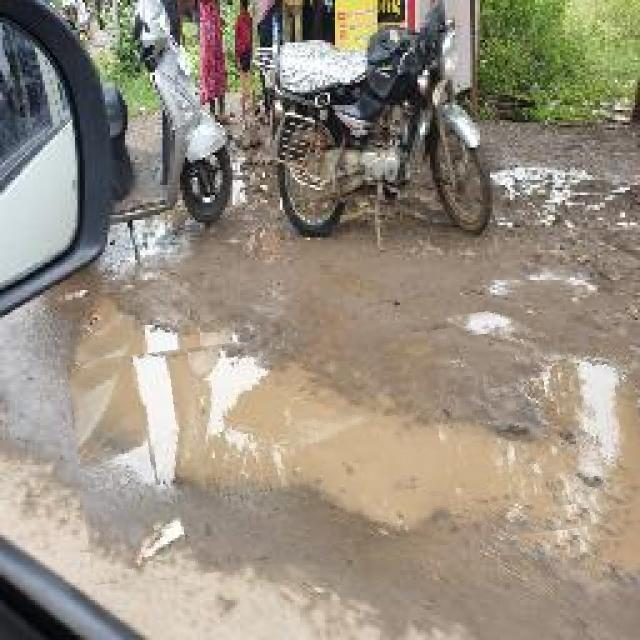puddle: (74, 312, 640, 571)
